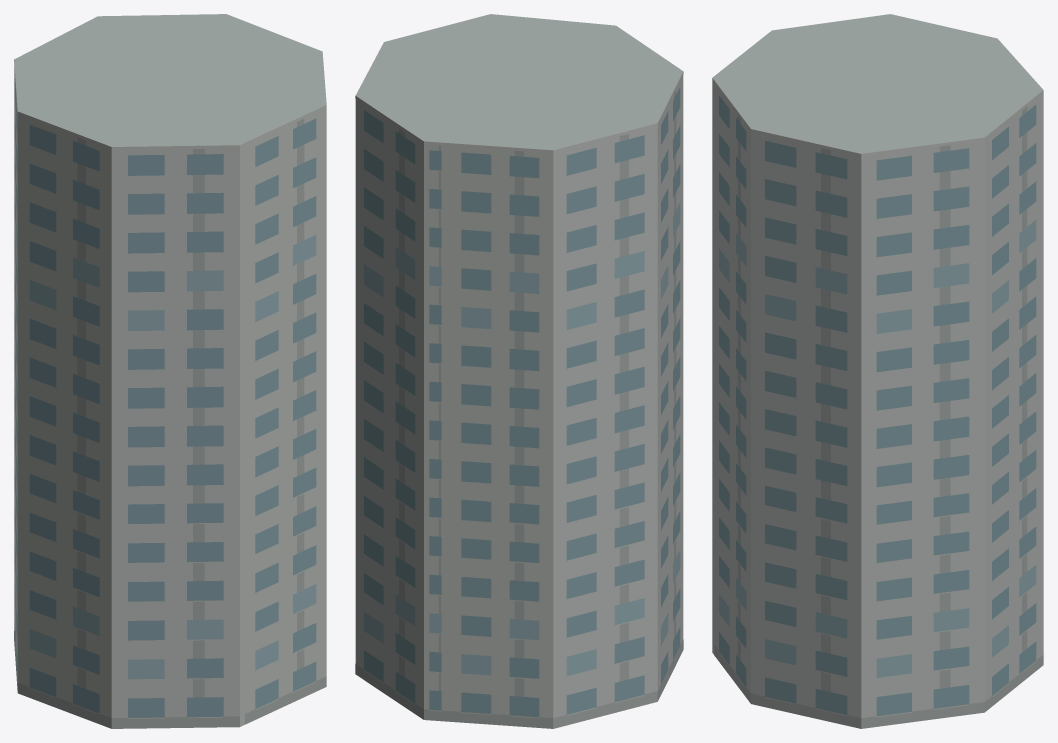
The model's file is survey-upis-32632163.glb.
3 renders of one model, left to right at view 1: azimuth 30°, elevation 25°; view 2: azimuth 150°, elevation 25°; view 3: azimuth 270°, elevation 25°, orthographic.
Visible parts, largest first — view 1: survey-upis-32632163.tmp; view 2: survey-upis-32632163.tmp; view 3: survey-upis-32632163.tmp.
Part boxes in pixels (x1=…): survey-upis-32632163.tmp: x1=14, y1=14, x2=326, y2=728; survey-upis-32632163.tmp: x1=355, y1=14, x2=683, y2=728; survey-upis-32632163.tmp: x1=712, y1=14, x2=1043, y2=728.
Size of the model in its own units: 23.88 by 45.75 by 23.9.
